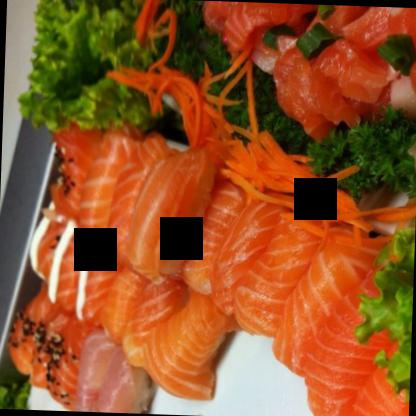salmon: (266, 237, 391, 376), (299, 268, 410, 415), (228, 206, 332, 335), (122, 144, 218, 276), (72, 130, 164, 263), (204, 192, 296, 312), (138, 291, 236, 398)
